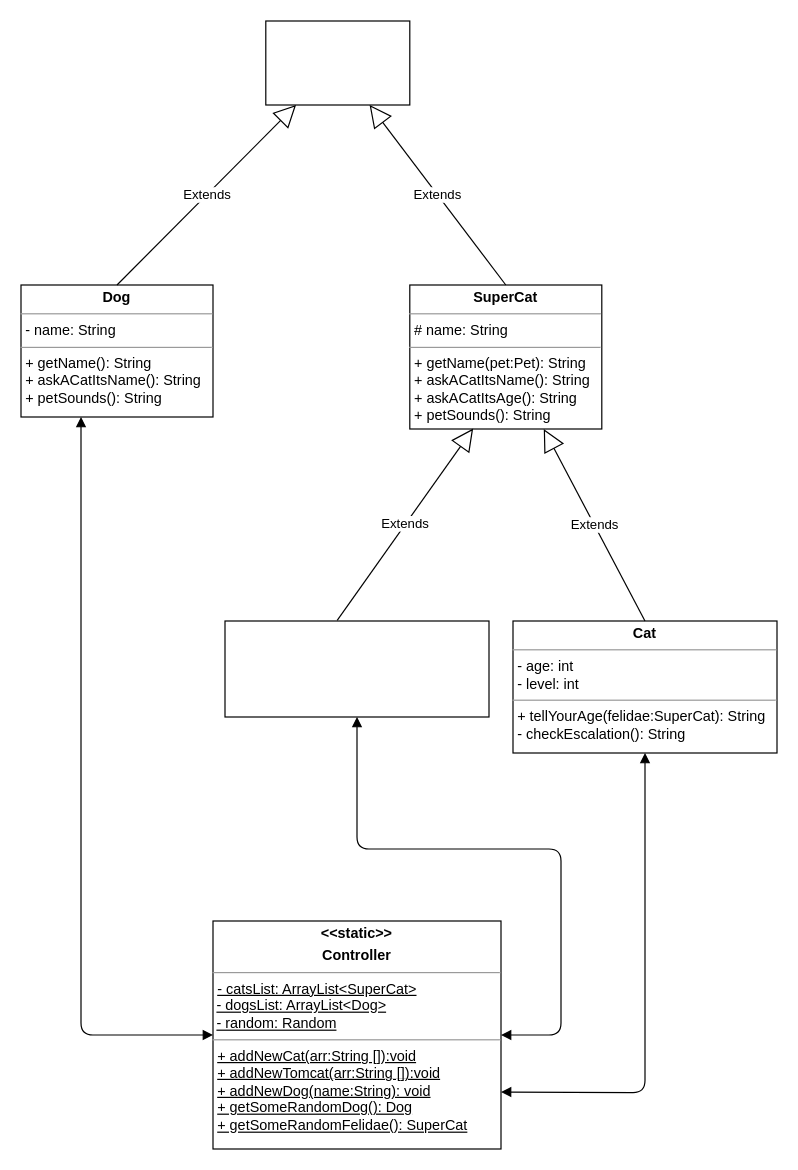
The diagram is 798 pixels wide and 1170 high, and some of its shapes have lost their labels. The shapes that lost their labels are listed below. From the top down, each one's centre as x and y in pixels, then its label:
[337,62]: << abstract >> Pet + petSounds(): String
[356,668]: Tomcat - age: int + tellYourAge(felidae:SuperCat ): String
